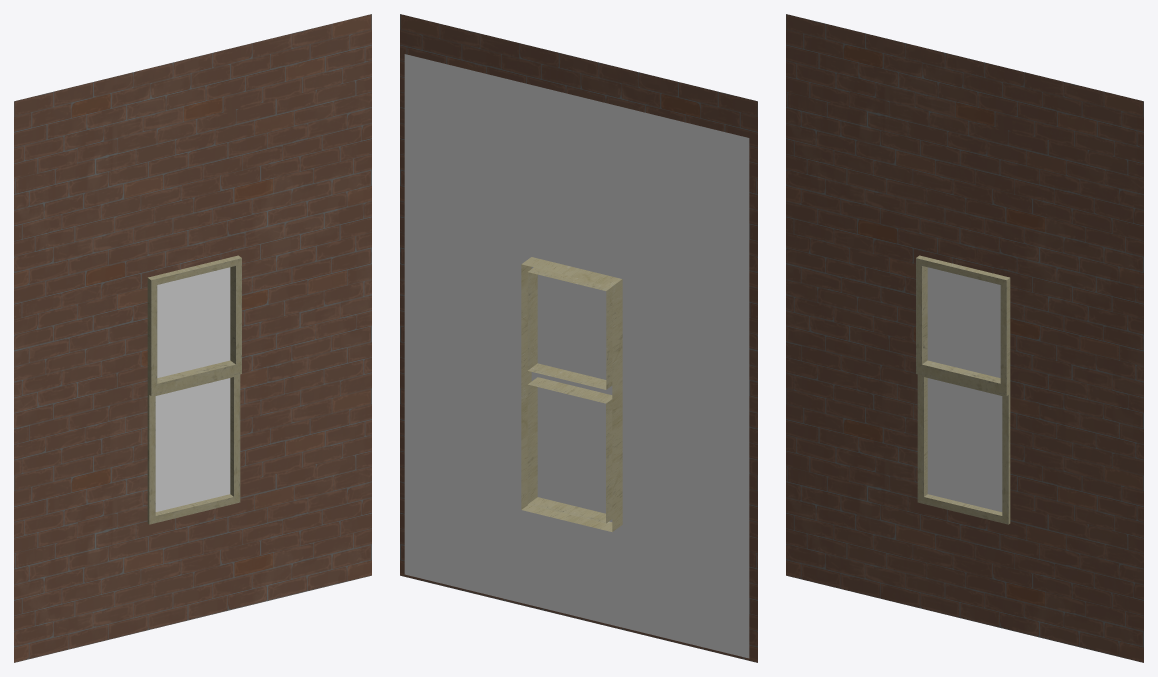
Rendered from UpperLayer_Window_Square_Single.fbx.
The picture shows the model from 3 angles, left to right: view 1: azimuth 30°, elevation 25°; view 2: azimuth 150°, elevation 25°; view 3: azimuth 330°, elevation 25°; orthographic projection.
Visible parts, largest first — view 1: UpperLayer_Window_Square_Single; view 2: UpperLayer_Window_Square_Single; view 3: UpperLayer_Window_Square_Single.
Boxes of the visible parts, left/top/right/bottom form: UpperLayer_Window_Square_Single: left=14, top=14, right=371, bottom=662; UpperLayer_Window_Square_Single: left=400, top=14, right=757, bottom=662; UpperLayer_Window_Square_Single: left=786, top=14, right=1143, bottom=662.
Size of the model in its own units: 200 by 300 by 15.32.
